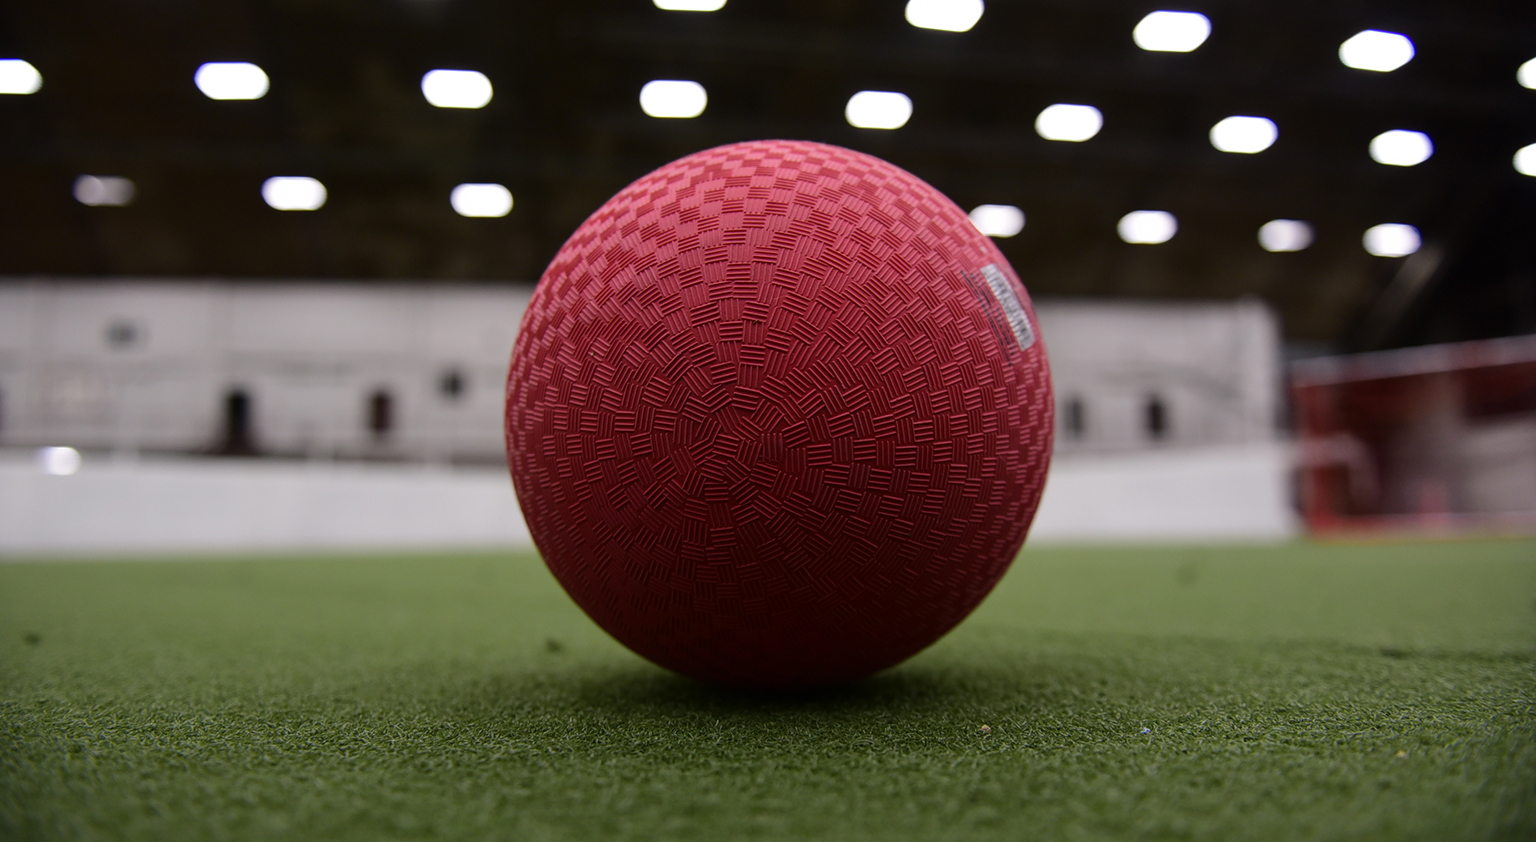red ball: (497, 137, 1058, 691)
